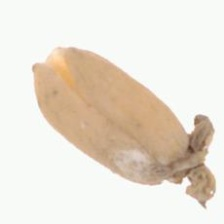L1: (166, 115, 217, 207), (31, 45, 77, 94)
L2: (31, 46, 215, 207)
